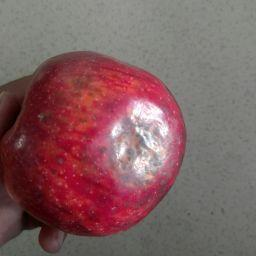apple: (0, 34, 218, 256)
